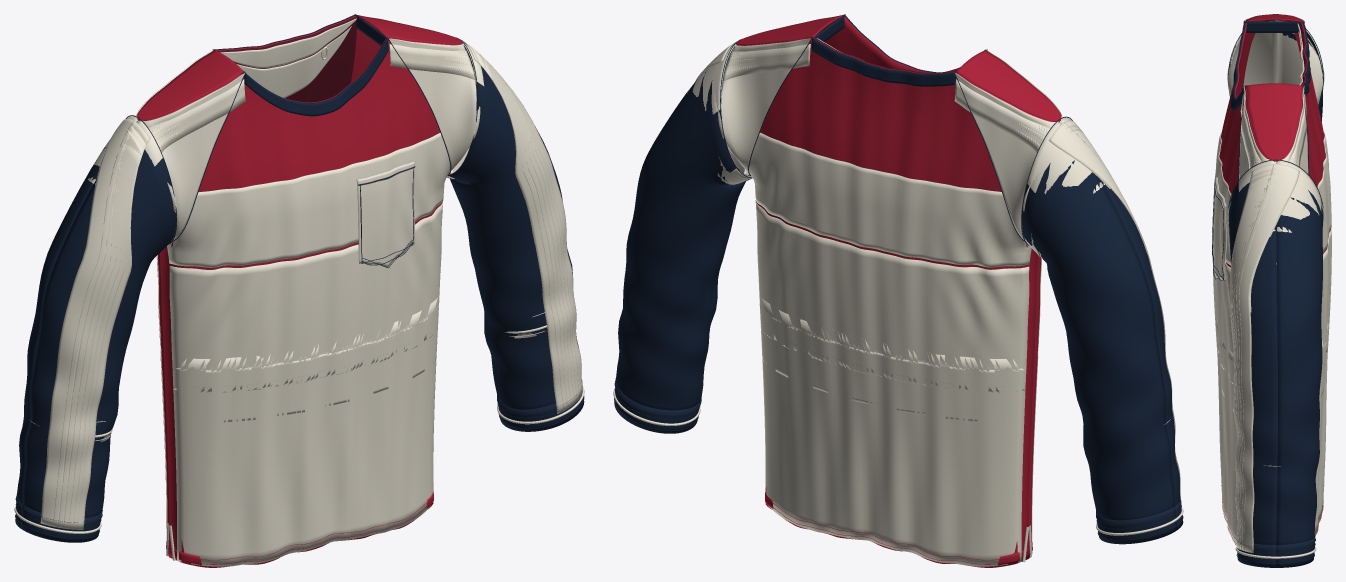
The model's file is garment.glb.
The picture shows the model from 3 angles, left to right: view 1: azimuth 30°, elevation 25°; view 2: azimuth 150°, elevation 25°; view 3: azimuth 270°, elevation 25°; orthographic projection. The views are drawn at different scales.
Visible parts, largest first — view 1: Panel_1219_-1_-0.951, Panel_1218_-1_-0.294, RN216_BodyFront_Round, RN216_Sleeve_Full_1, RN216_Sleeve_Full_-1, Panel_1259_-1_0.19, SleeveLongPanel_729_-1_0, Panel_1259_-1_-0.41, SleeveLongPanel_729_1_0, RaglanShoulder_709_1_-1, RaglanShoulder_709_-1_-1, RN216_ShoulderBridge_-1 (+24 smaller); view 2: Panel_1219_1_-0.951, RN216_Sleeve_Full_-1, Panel_1218_1_-0.294, RN216_Sleeve_Full_1, RN216_Body_Back, Panel_1259_1_0.19, Panel_1259_1_-0.41, RaglanShoulder_709_1_1, RaglanShoulder_709_-1_1, RN216_ShoulderBridge_-1, RN216_BodyFront_Round, ShoulderTrim_717_-1_1_0 (+10 smaller); view 3: RN216_Sleeve_Full_1, SleeveLongPanel_729_1_0, RN216_ShoulderBridge_1, Raglan_732_Sleeve_Short_-1, Panel_1219_-1_-0.951, RN216_BodyFront_Round, RN216_Body_Back, RN216_Cuff_Plain_Full_1, Panel_1218_-1_-0.294, Panel_1219_1_-0.951, SleeveLongPanel_737_1_2, SleeveLongPanel_743_1_0 (+27 smaller).
Boxes of the visible parts, bbox=[...] form: Panel_1219_-1_-0.951: bbox=[172, 297, 438, 566]; Panel_1218_-1_-0.294: bbox=[169, 202, 442, 392]; RN216_BodyFront_Round: bbox=[138, 38, 461, 561]; RN216_Sleeve_Full_1: bbox=[448, 43, 578, 409]; RN216_Sleeve_Full_-1: bbox=[17, 147, 176, 517]; Panel_1259_-1_0.19: bbox=[167, 131, 474, 267]; SleeveLongPanel_729_-1_0: bbox=[40, 130, 143, 529]; Panel_1259_-1_-0.41: bbox=[172, 306, 438, 422]; SleeveLongPanel_729_1_0: bbox=[475, 50, 582, 413]; RaglanShoulder_709_1_-1: bbox=[388, 38, 480, 170]; RaglanShoulder_709_-1_-1: bbox=[139, 73, 244, 241]; RN216_ShoulderBridge_-1: bbox=[137, 50, 244, 120]; Panel_1219_1_-0.951: bbox=[759, 298, 1026, 566]; RN216_Sleeve_Full_-1: bbox=[1022, 160, 1180, 520]; Panel_1218_1_-0.294: bbox=[755, 200, 1029, 393]; RN216_Sleeve_Full_1: bbox=[616, 44, 750, 410]; RN216_Body_Back: bbox=[736, 38, 1059, 559]; Panel_1259_1_0.19: bbox=[724, 132, 1031, 267]; Panel_1259_1_-0.41: bbox=[759, 304, 1026, 422]; RaglanShoulder_709_1_1: bbox=[718, 38, 811, 171]; RaglanShoulder_709_-1_1: bbox=[955, 73, 1058, 240]; RN216_ShoulderBridge_-1: bbox=[956, 50, 1061, 121]; RN216_BodyFront_Round: bbox=[821, 17, 1061, 558]; ShoulderTrim_717_-1_1_0: bbox=[954, 79, 1048, 152]; RN216_Sleeve_Full_1: bbox=[1229, 182, 1322, 544]; SleeveLongPanel_729_1_0: bbox=[1230, 173, 1286, 552]; RN216_ShoulderBridge_1: bbox=[1246, 83, 1301, 160]; Raglan_732_Sleeve_Short_-1: bbox=[1230, 20, 1321, 104]; Panel_1219_-1_-0.951: bbox=[1215, 321, 1237, 544]; RN216_BodyFront_Round: bbox=[1219, 20, 1275, 267]; RN216_Body_Back: bbox=[1276, 20, 1330, 253]; RN216_Cuff_Plain_Full_1: bbox=[1237, 535, 1315, 567]; Panel_1218_-1_-0.294: bbox=[1212, 229, 1233, 383]; Panel_1219_1_-0.951: bbox=[1314, 322, 1329, 535]; SleeveLongPanel_737_1_2: bbox=[1236, 173, 1275, 550]; SleeveLongPanel_743_1_0: bbox=[1250, 169, 1288, 312].
Bounding box in the file's own units: 2.21 × 1.86 × 0.443.
